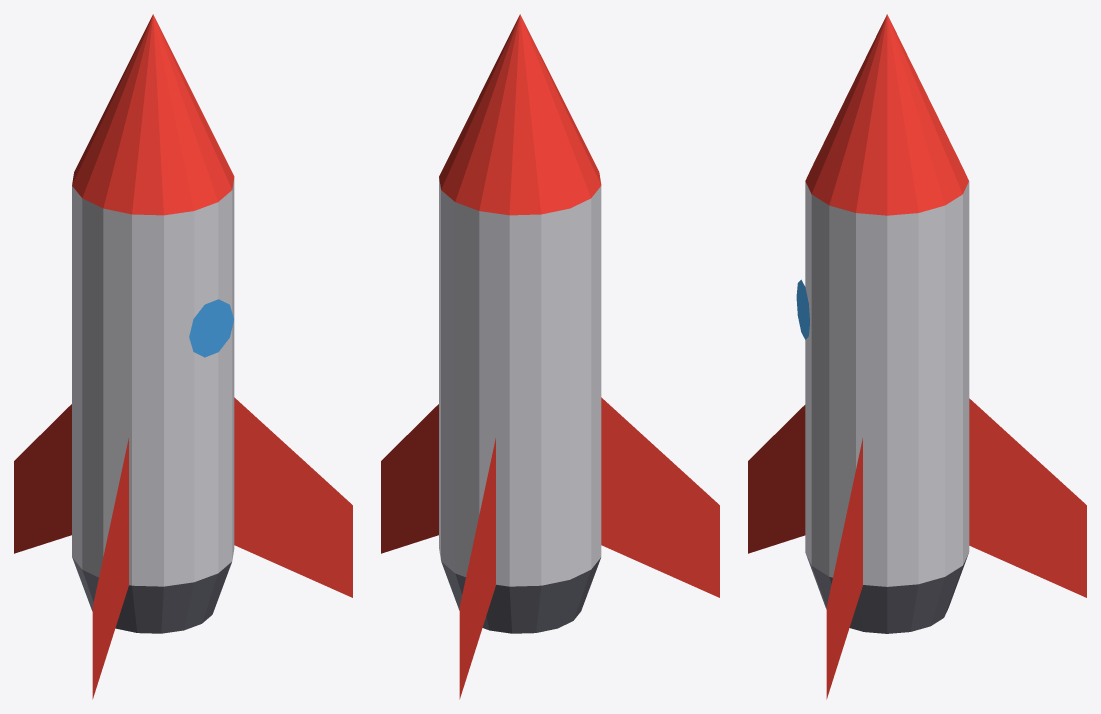
The model's file is rocket.obj.
The picture shows the model from 3 angles, left to right: view 1: azimuth 30°, elevation 25°; view 2: azimuth 150°, elevation 25°; view 3: azimuth 270°, elevation 25°; orthographic projection.
Size of the model in its own units: 1.69 by 3.25 by 1.65.
